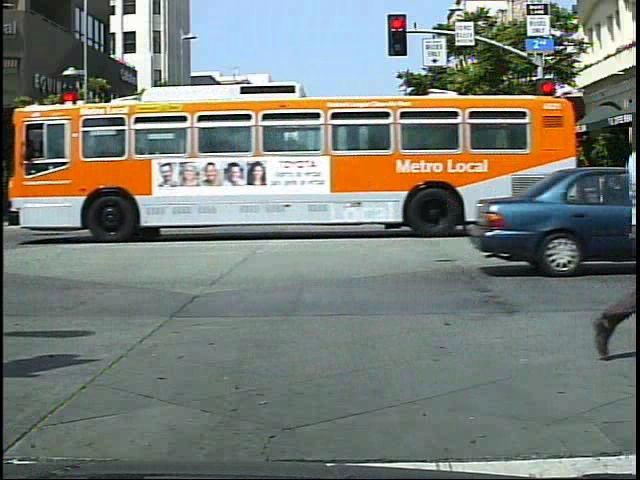person: (289, 165, 322, 229), (191, 167, 220, 234), (336, 166, 366, 230), (548, 160, 570, 211)
